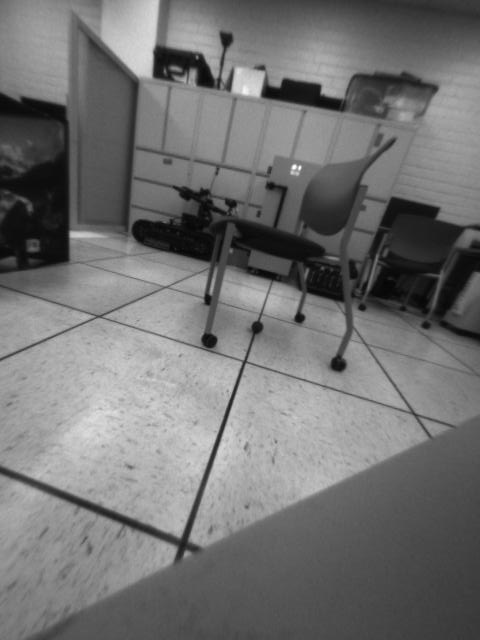dogtoy: (248, 314, 272, 340)
